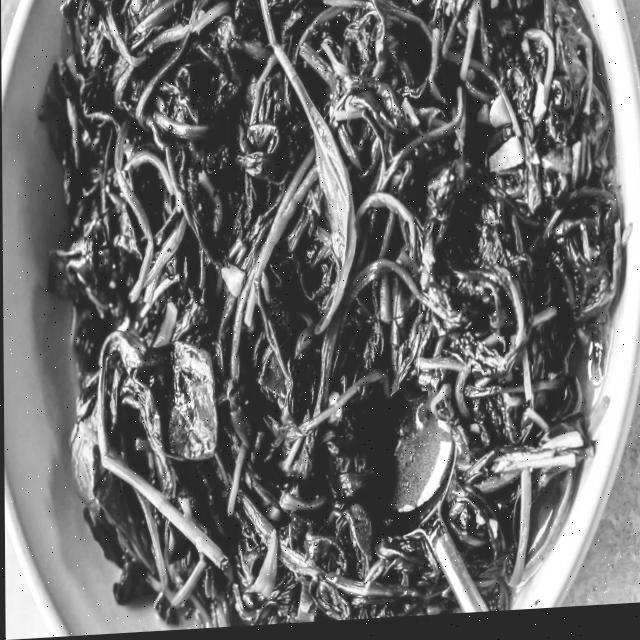Spinach: (47, 0, 627, 638)
